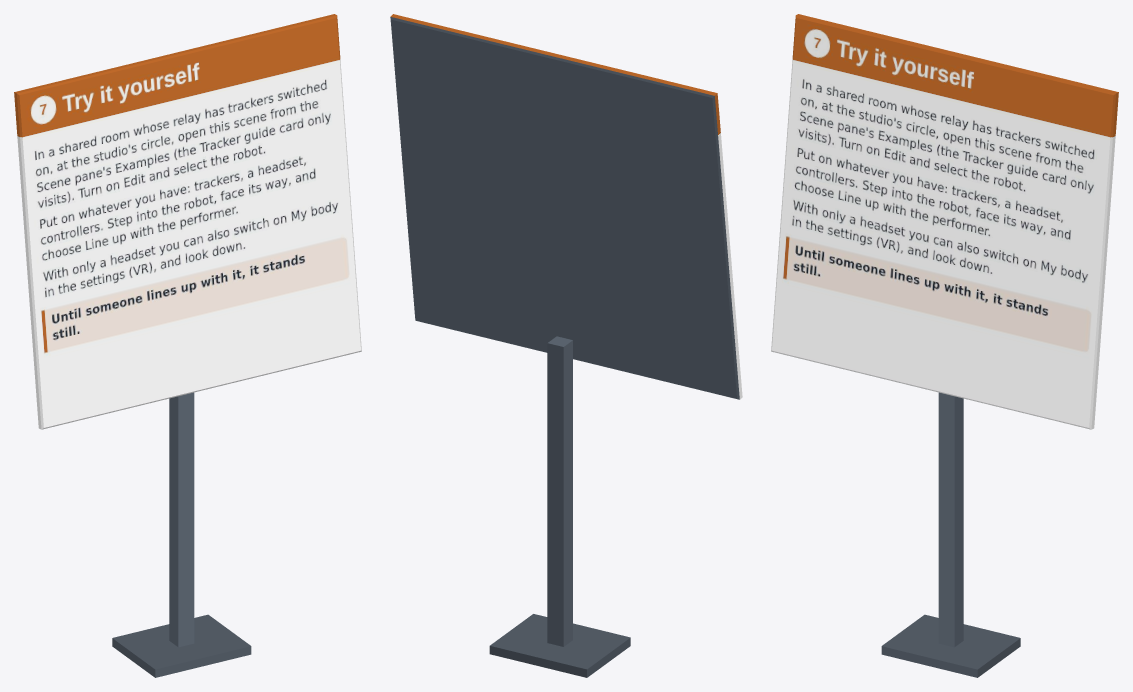
File: 07-try-it-yourself.glb
3 renders of one model, left to right at view 1: azimuth 30°, elevation 25°; view 2: azimuth 150°, elevation 25°; view 3: azimuth 330°, elevation 25°, orthographic.
Visible parts, largest first — view 1: board; view 2: board; view 3: board.
Part boxes in pixels (x1=…): board: x1=14, y1=14, x2=361, y2=677; board: x1=390, y1=14, x2=742, y2=677; board: x1=771, y1=14, x2=1118, y2=677.
Bounding box in the file's own units: 1.2 × 2.12 × 0.28.
1 material, 1 textured.
